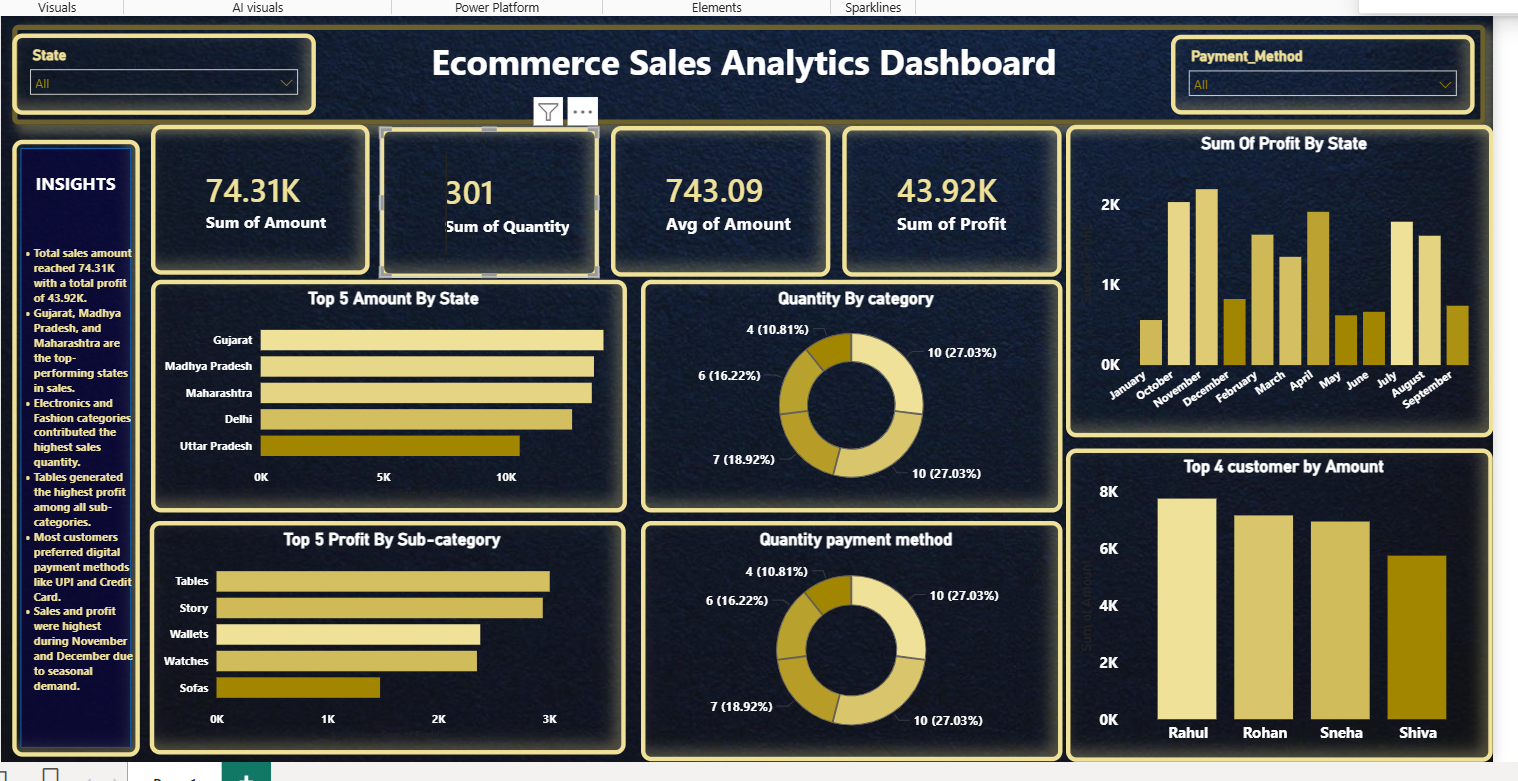

Layout of this report page (visuals, bound fields, positions):
{"tool":"powerbi","page":{"name":"Page 1","canvas":[1600,800],"ordinal":0},"visuals":[{"type":"textbox","box":[11.6,8.7,1579.9,107.6],"z":0},{"type":"cardVisual","fields":{"Data":["Sum(ecommerce_sales_dataset.Amount)"]},"box":[160.9,116.6,234.6,160.9],"z":1000},{"type":"cardVisual","fields":{"Data":["Avg(ecommerce_sales_dataset.Amount)"]},"box":[654.1,117.7,235.5,161.3],"z":2000},{"type":"cardVisual","fields":{"Data":["Sum(ecommerce_sales_dataset.Profit)"]},"box":[902.6,117.7,235.5,161.3],"z":3000},{"type":"columnChart","title":"Top 4 customer by  Amount","fields":{"Category":["ecommerce_sales_dataset.Customer_Name"],"Y":["Sum(ecommerce_sales_dataset.Amount)"]},"box":[1142.4,463.7,457.9,335.8],"z":5000},{"type":"cardVisual","fields":{"Data":["Sum(ecommerce_sales_dataset.Quantity)"]},"box":[405.5,119.2,235.5,161.3],"z":6000},{"type":"donutChart","title":"Quantity By category","fields":{"Category":["ecommerce_sales_dataset.Quantity"],"Y":["CountNonNull(ecommerce_sales_dataset.Category)"]},"box":[686.3,282.8,451.7,249.3],"z":7000},{"type":"clusteredBarChart","title":"Top 5  Amount By State","fields":{"Category":["ecommerce_sales_dataset.State"],"Y":["Sum(ecommerce_sales_dataset.Amount)"]},"box":[160.9,282.8,510.7,249.3],"z":8000},{"type":"donutChart","title":"Quantity payment method","fields":{"Category":["ecommerce_sales_dataset.Quantity"],"Y":["CountNonNull(ecommerce_sales_dataset.Payment_Method)"]},"box":[686.3,541.6,451.7,257.4],"z":9000},{"type":"clusteredBarChart","title":"Top 5 Profit By Sub-category","fields":{"Category":["ecommerce_sales_dataset.Sub_Category"],"Y":["Sum(ecommerce_sales_dataset.Profit)"]},"box":[159.9,542.2,510.2,250],"z":10000},{"type":"columnChart","title":"Sum Of Profit By State","fields":{"Category":["ecommerce_sales_dataset.Month"],"Y":["Sum(ecommerce_sales_dataset.Profit)"]},"box":[1142.1,116.6,458.4,335.1],"z":10001},{"type":"slicer","fields":{"Values":["ecommerce_sales_dataset.Payment_Method"]},"box":[1254.4,20.3,325.6,85.8],"z":10002},{"type":"slicer","fields":{"Values":["ecommerce_sales_dataset.State"]},"box":[11.6,18.9,325.6,87.2],"z":10003},{"type":"shape","box":[11.6,132.3,136.6,661.3],"z":10004},{"type":"textbox","box":[11.6,241.3,136.6,558.1],"z":10005},{"type":"textbox","box":[32,162.8,116.3,53.8],"z":10006}]}

Visuals, with their boxes in screenshot pixels (x1, y1, x2, y2):
textbox: {"x1": 7, "y1": 20, "x2": 1485, "y2": 121}
cardVisual - Sum(ecommerce_sales_dataset.Amount): {"x1": 147, "y1": 121, "x2": 366, "y2": 271}
cardVisual - Avg(ecommerce_sales_dataset.Amount): {"x1": 608, "y1": 122, "x2": 828, "y2": 273}
cardVisual - Sum(ecommerce_sales_dataset.Profit): {"x1": 841, "y1": 122, "x2": 1061, "y2": 273}
"Top 4 customer by  Amount" columnChart: {"x1": 1065, "y1": 446, "x2": 1493, "y2": 760}
cardVisual - Sum(ecommerce_sales_dataset.Quantity): {"x1": 375, "y1": 123, "x2": 596, "y2": 274}
"Quantity By category" donutChart: {"x1": 638, "y1": 276, "x2": 1061, "y2": 510}
"Top 5  Amount By State" clusteredBarChart: {"x1": 147, "y1": 276, "x2": 624, "y2": 510}
"Quantity payment method" donutChart: {"x1": 638, "y1": 519, "x2": 1061, "y2": 759}
"Top 5 Profit By Sub-category" clusteredBarChart: {"x1": 146, "y1": 519, "x2": 623, "y2": 753}
"Sum Of Profit By State" columnChart: {"x1": 1065, "y1": 121, "x2": 1494, "y2": 434}
slicer - ecommerce_sales_dataset.Payment_Method: {"x1": 1170, "y1": 31, "x2": 1474, "y2": 111}
slicer - ecommerce_sales_dataset.State: {"x1": 7, "y1": 30, "x2": 312, "y2": 111}
shape: {"x1": 7, "y1": 136, "x2": 135, "y2": 754}
textbox: {"x1": 7, "y1": 238, "x2": 135, "y2": 760}
textbox: {"x1": 26, "y1": 164, "x2": 135, "y2": 215}
